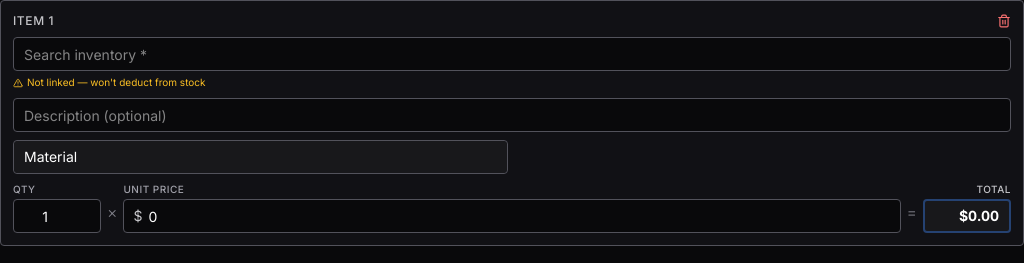
Test case: LineItemCard — quick add › quick add is not offered when the typed name exactly matches a catalog name (case-insensitive)
The width and height of the screenshot is (1024, 263).
In the field with placeholder "Search inventory *": point(512, 54) [13,37,1011,71], type "contactor 24v"
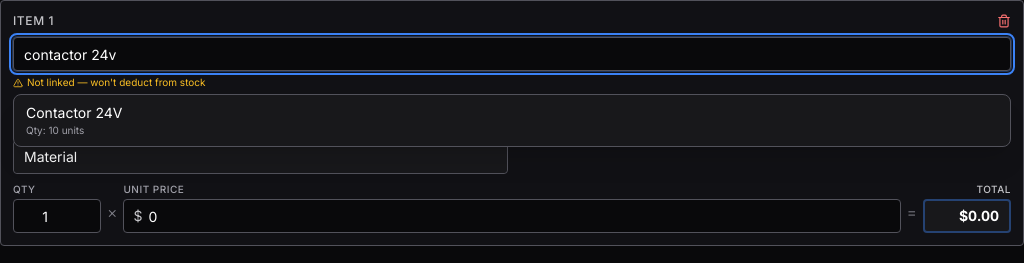
Check: the text "Contactor 24V" is shown, box [26,104,122,121]
